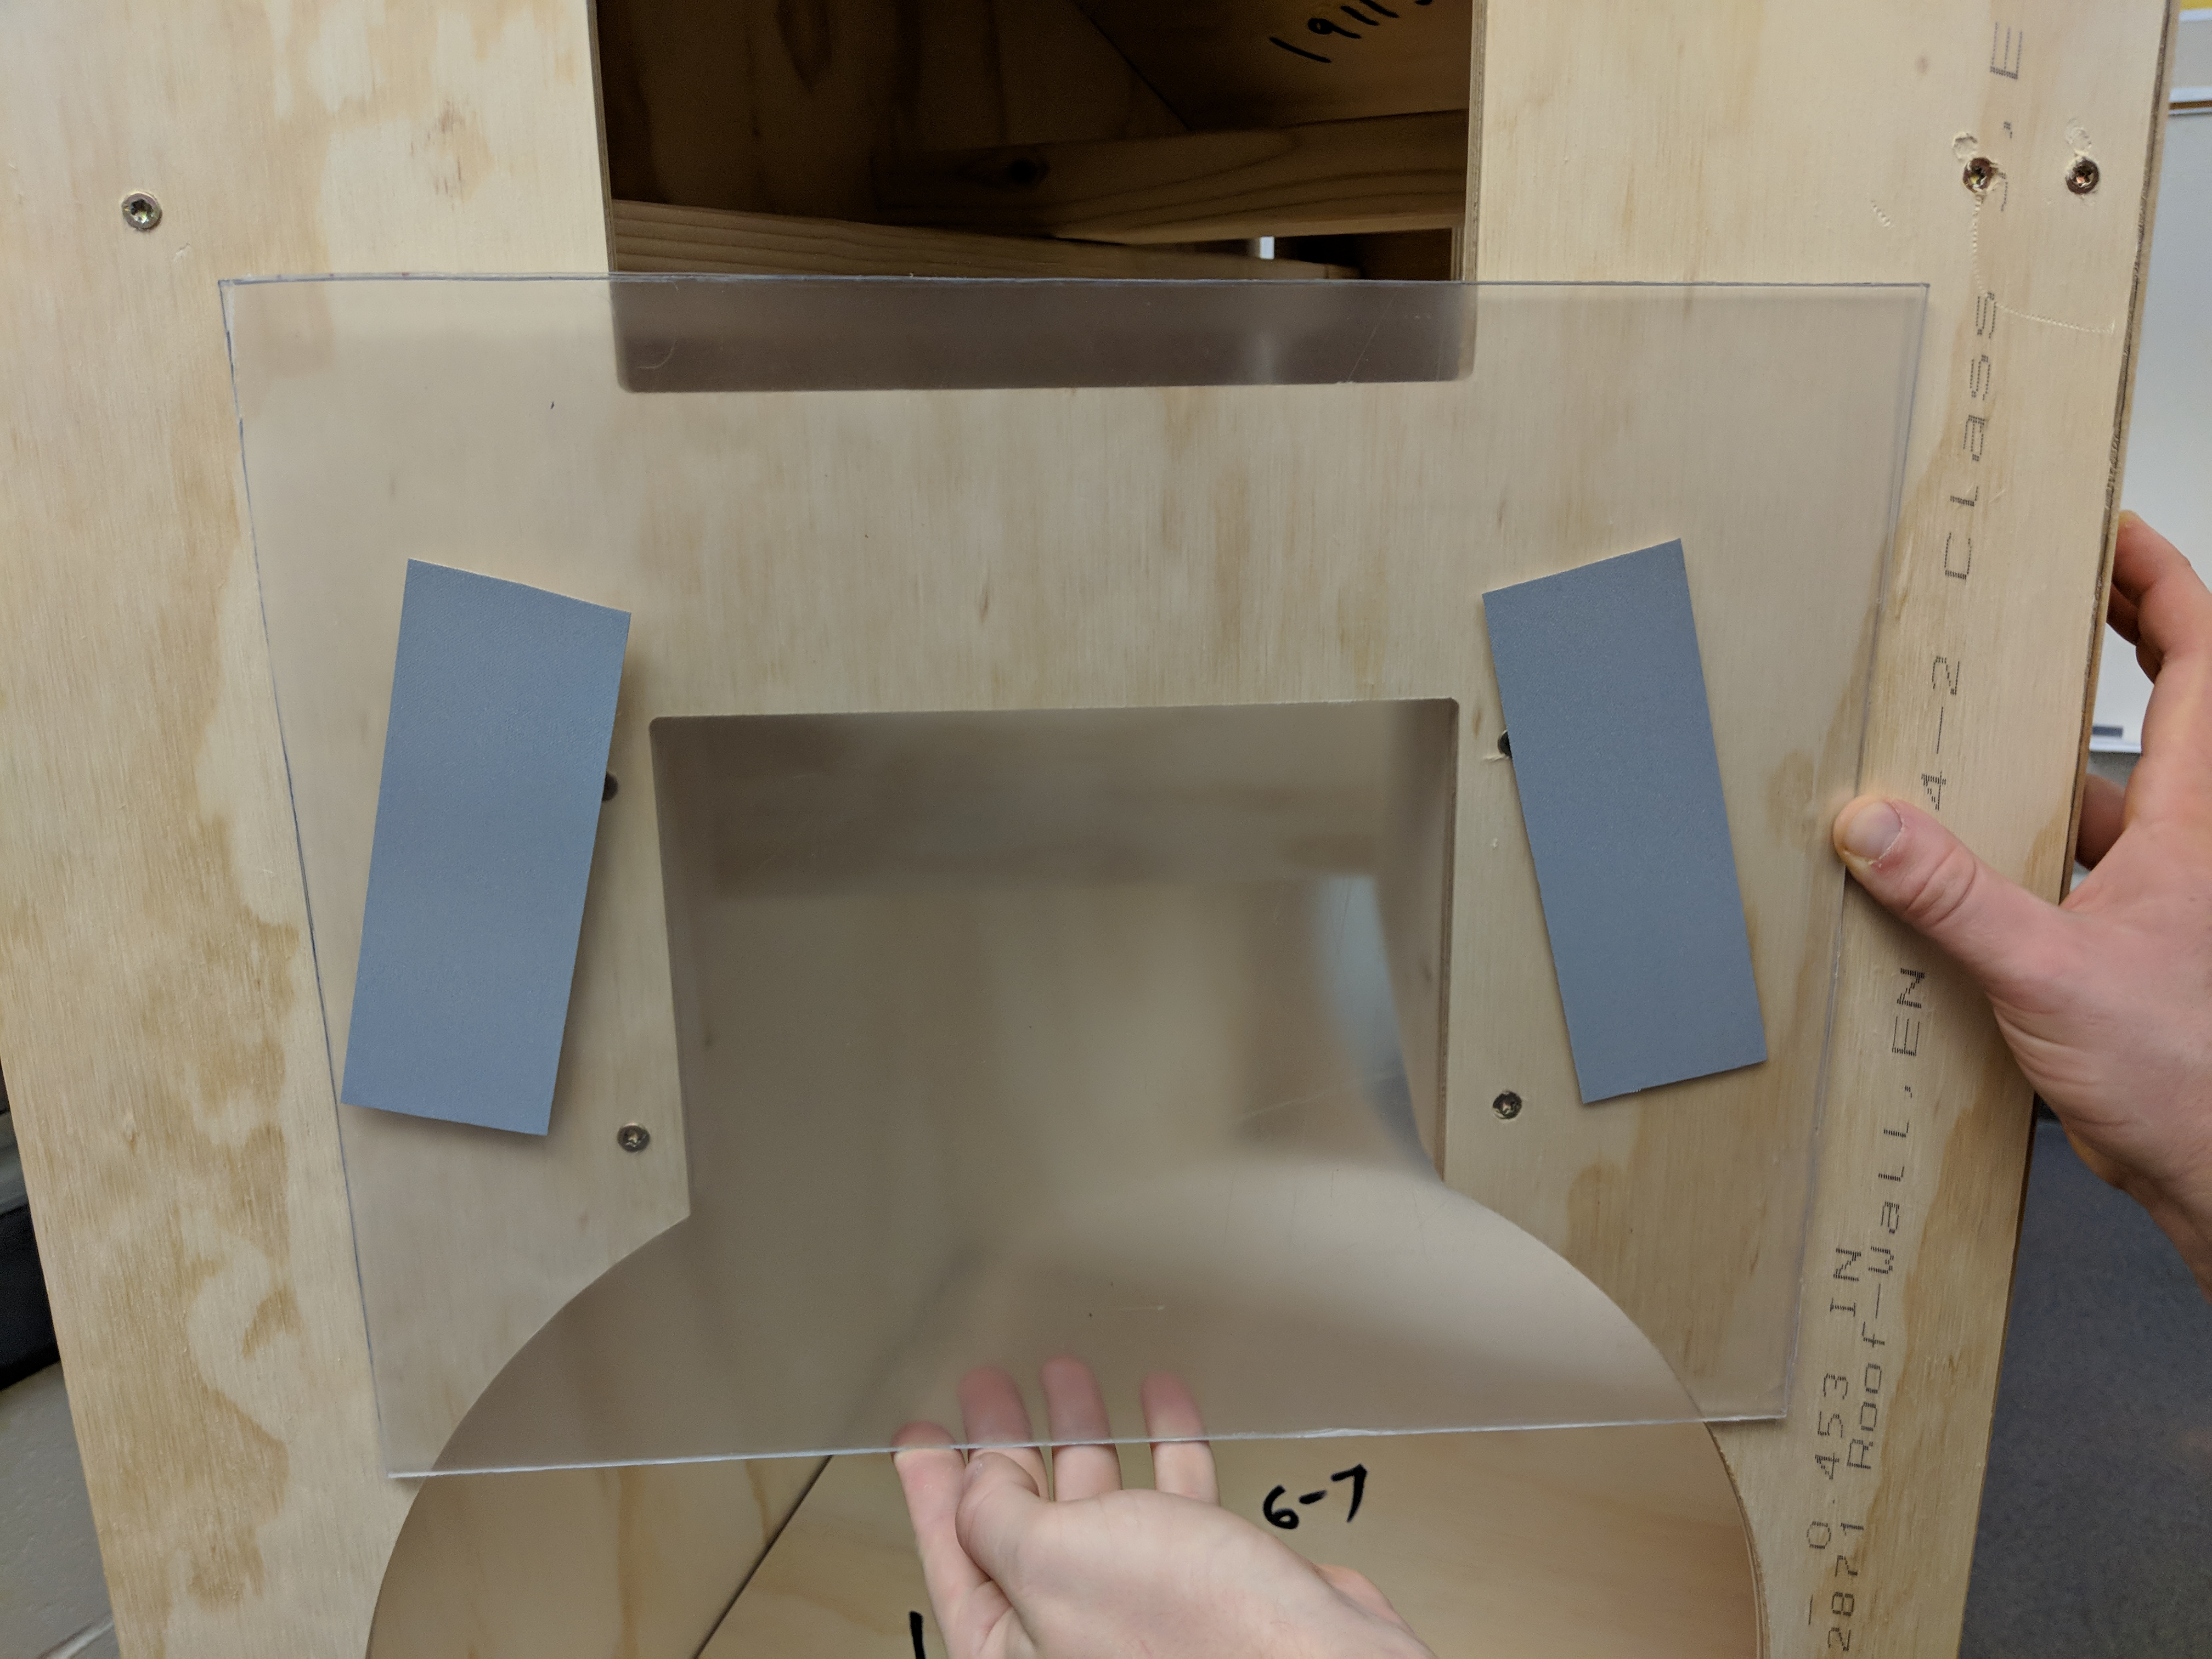vision_target: (322, 533, 1782, 1152)
